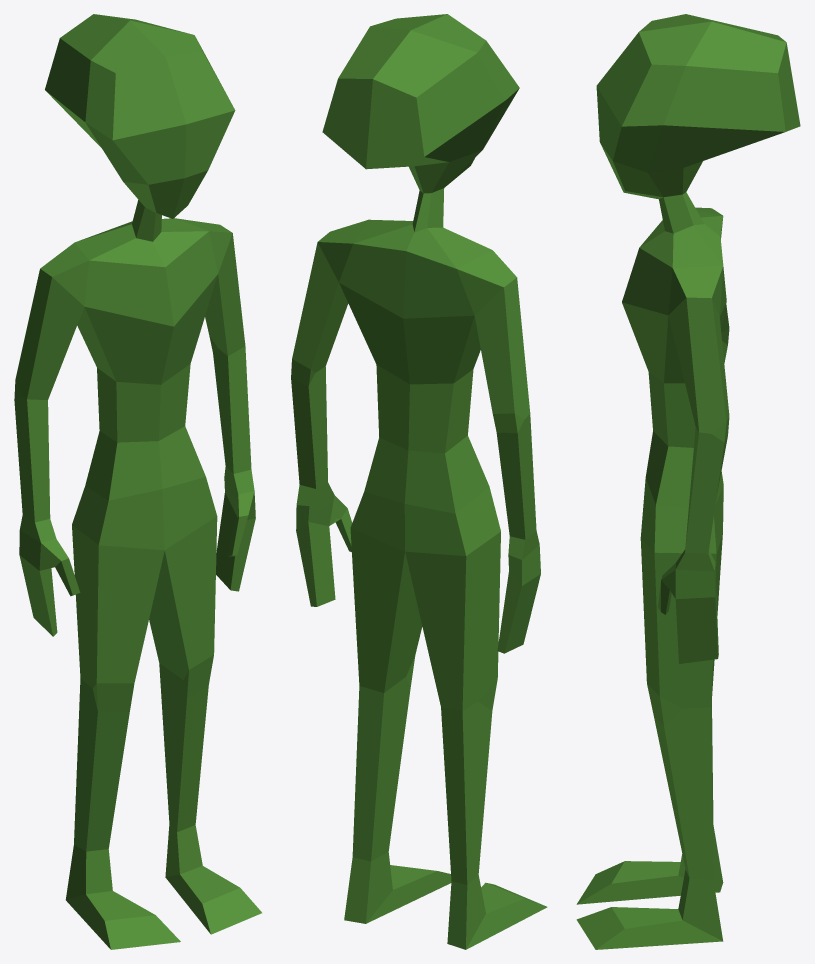
The model's file is alien-ufo.glb.
3 renders of one model, left to right at view 1: azimuth 30°, elevation 25°; view 2: azimuth 150°, elevation 25°; view 3: azimuth 270°, elevation 25°, orthographic. The views are drawn at different scales.
Parts seen in each view (by area): view 1: alien-ufo; view 2: alien-ufo; view 3: alien-ufo.
Boxes of the visible parts, x1,y1,x2,y2 form: alien-ufo: (14,14,261,949); alien-ufo: (291,14,547,949); alien-ufo: (576,14,800,949).
Bounding box in the file's own units: 0.5131 × 1.94 × 0.4431.
Materials: 1 (1 with a texture image).
